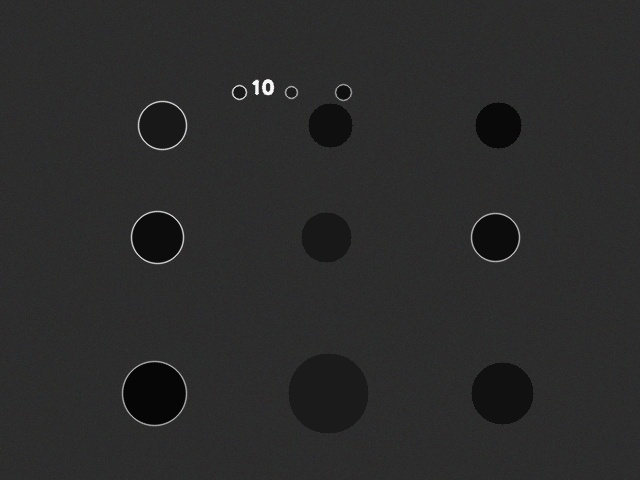hole: (288, 353, 368, 433), (122, 361, 186, 425), (471, 362, 533, 424), (131, 211, 183, 263), (301, 212, 351, 262), (138, 101, 186, 149), (471, 213, 519, 261), (475, 102, 521, 148), (308, 103, 352, 147), (335, 84, 351, 100), (232, 85, 246, 99), (285, 86, 297, 98)
